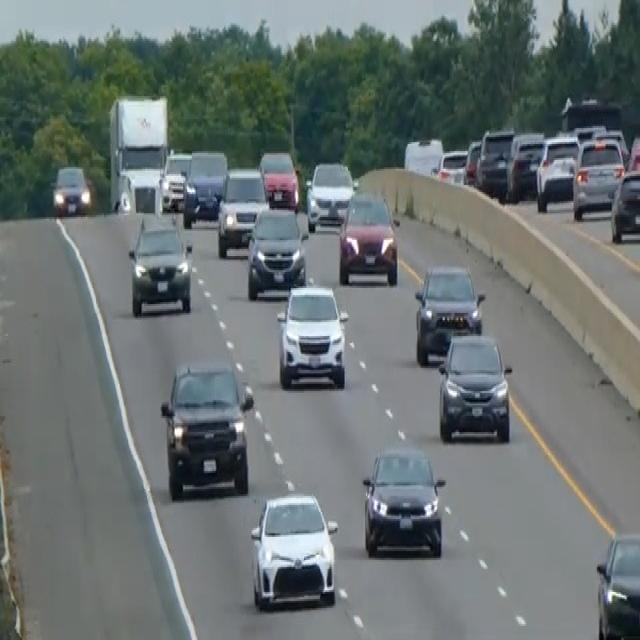car: (159, 358, 254, 500), (249, 489, 338, 611), (361, 443, 446, 558), (436, 329, 512, 443), (413, 262, 485, 364), (127, 214, 193, 316), (338, 188, 399, 286), (245, 204, 306, 298), (594, 530, 639, 638), (216, 165, 269, 256), (572, 135, 624, 221), (305, 158, 355, 231), (182, 148, 227, 228), (535, 132, 580, 212), (475, 126, 514, 198), (506, 130, 544, 201), (258, 148, 299, 212), (609, 166, 639, 243), (52, 162, 90, 217), (159, 150, 191, 212), (403, 135, 443, 178), (594, 126, 630, 167), (437, 146, 468, 185), (462, 137, 481, 185), (627, 132, 639, 174)
jeep: (275, 279, 349, 391)
lorry: (107, 92, 169, 212)
